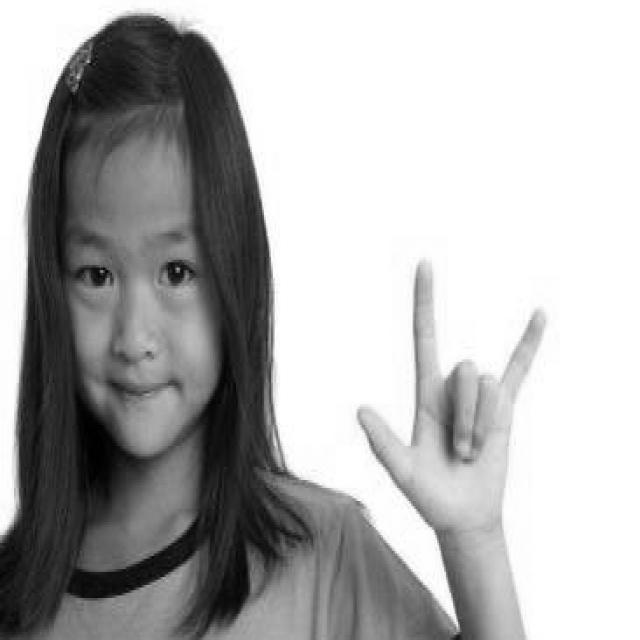i love you: (351, 247, 552, 548)
